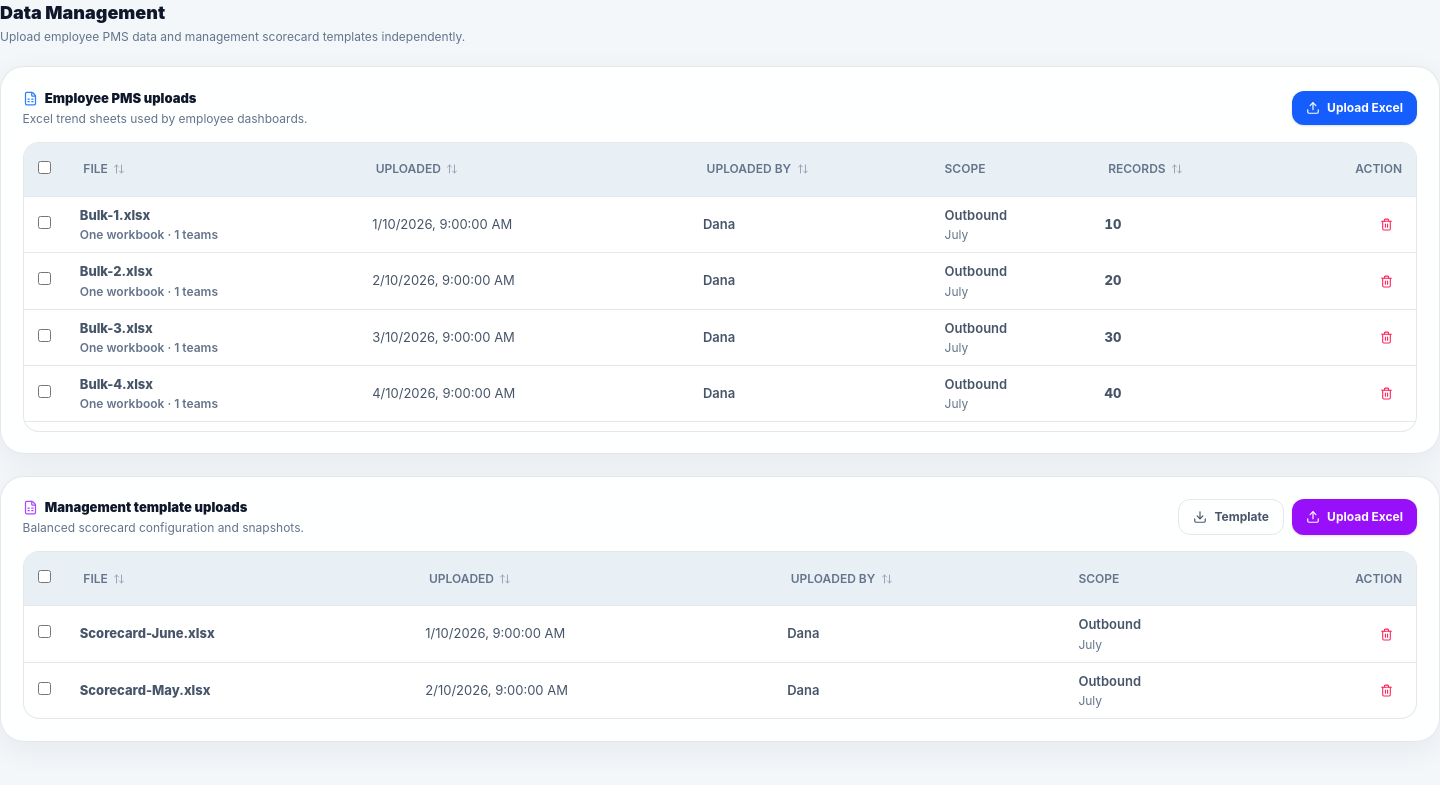
DataManagementPanel batch delete › blocks more than 100 selected uploads before any request, and keeps the selection
expect the checkbox named "Select Bulk-1.xlsx" is shown: met, box [38,216,51,229]
Click the 1st checkbox named "Select all uploads": (44, 167) [38,161,51,174]
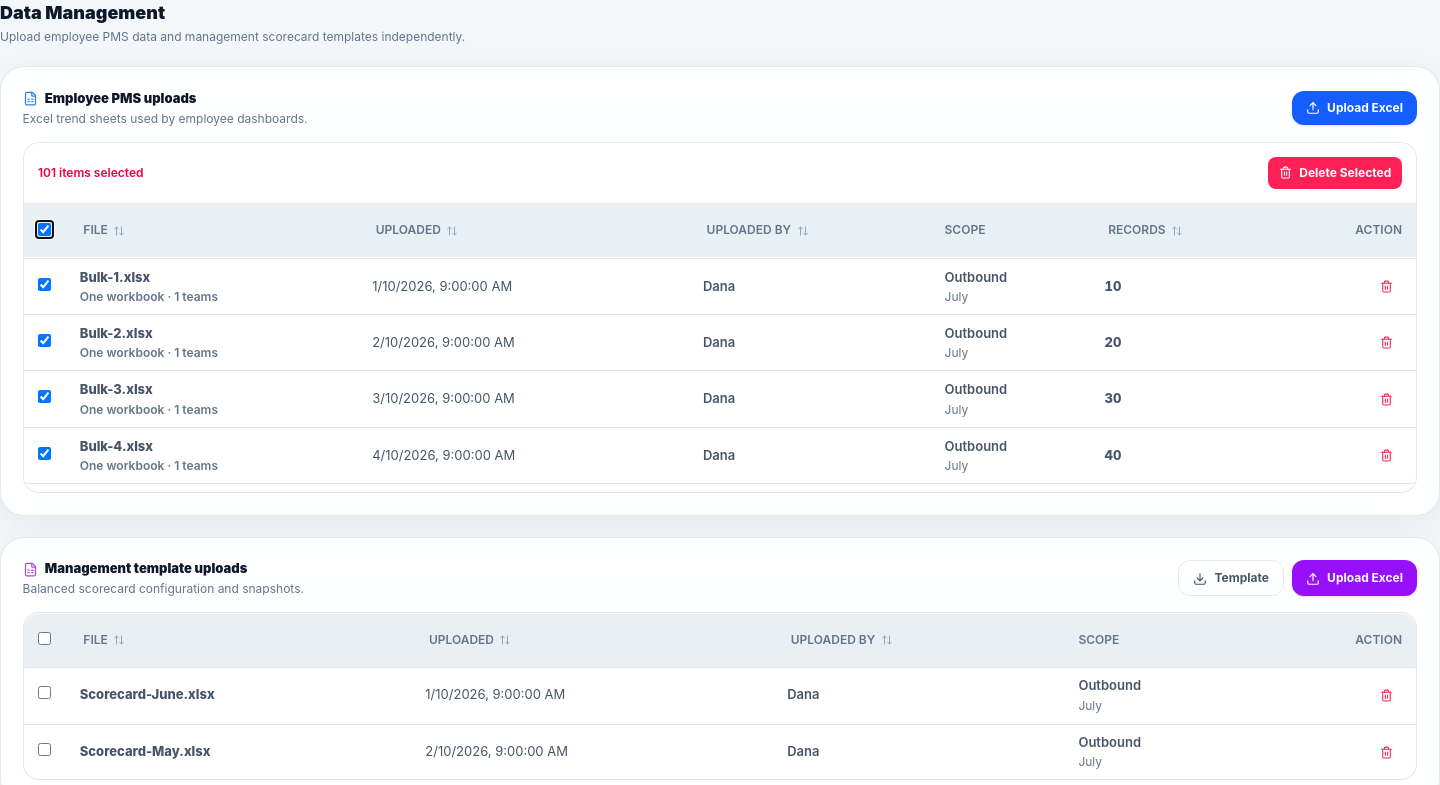
Click the button "Delete Selected": (1335, 173) [1268,157,1402,189]
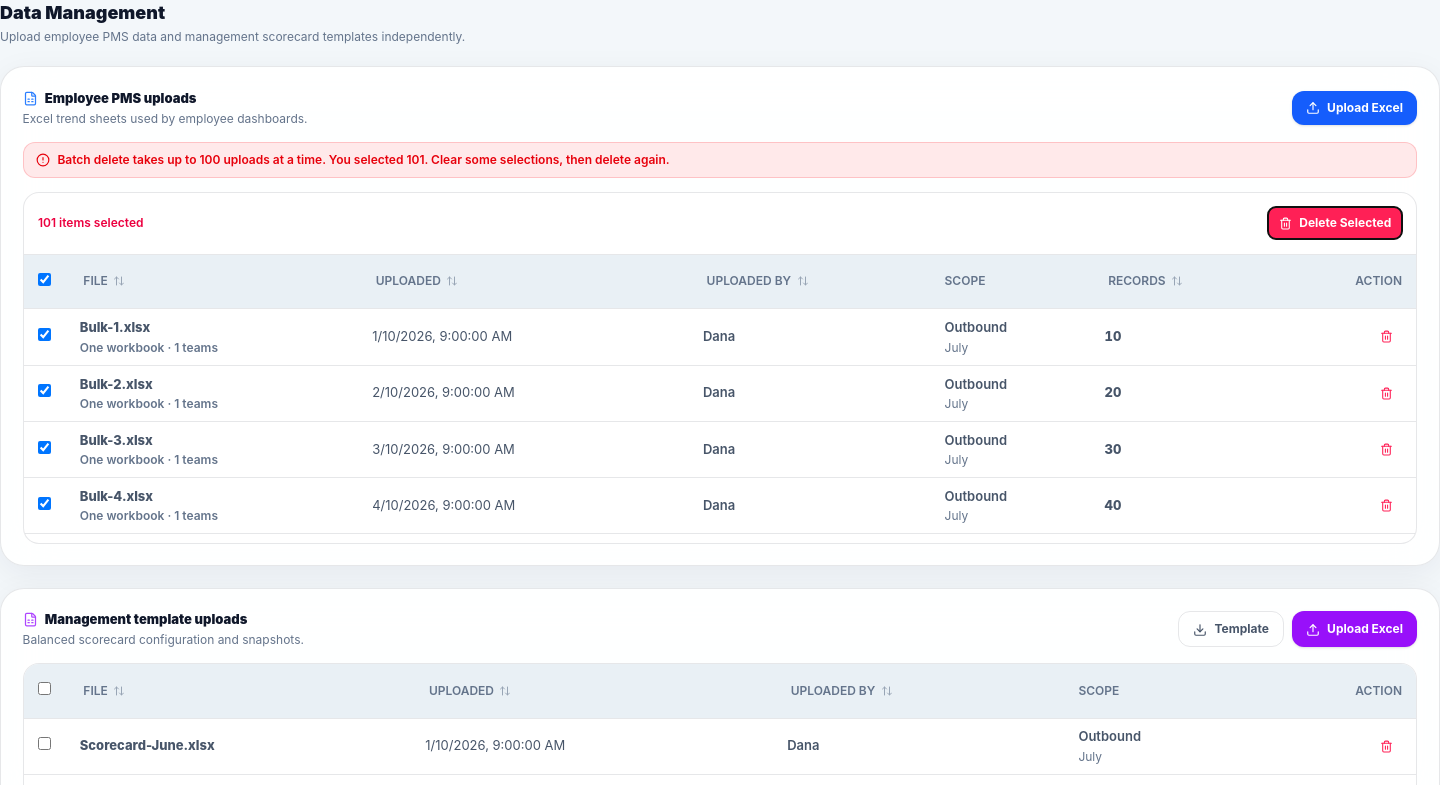
expect the text "101 items selected" is shown: met, box [38,215,144,231]
expect the message shows "Batch delete takes up to 100 uploads at a time. You selected 101. Clear some selections, then delete again.": met, box [57,152,670,166]
